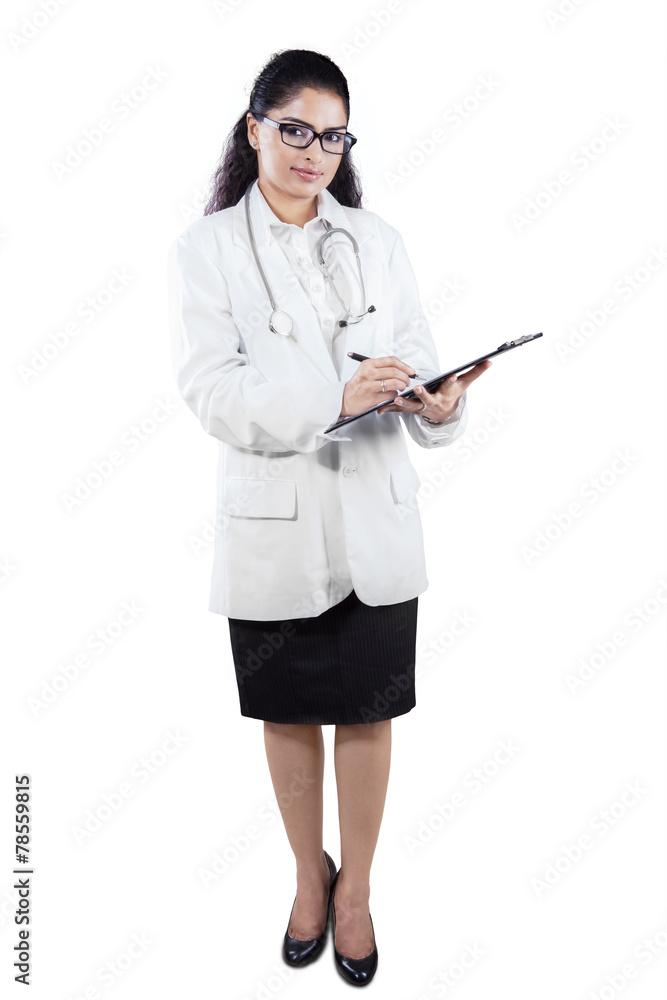Human: (141, 38, 502, 992)
